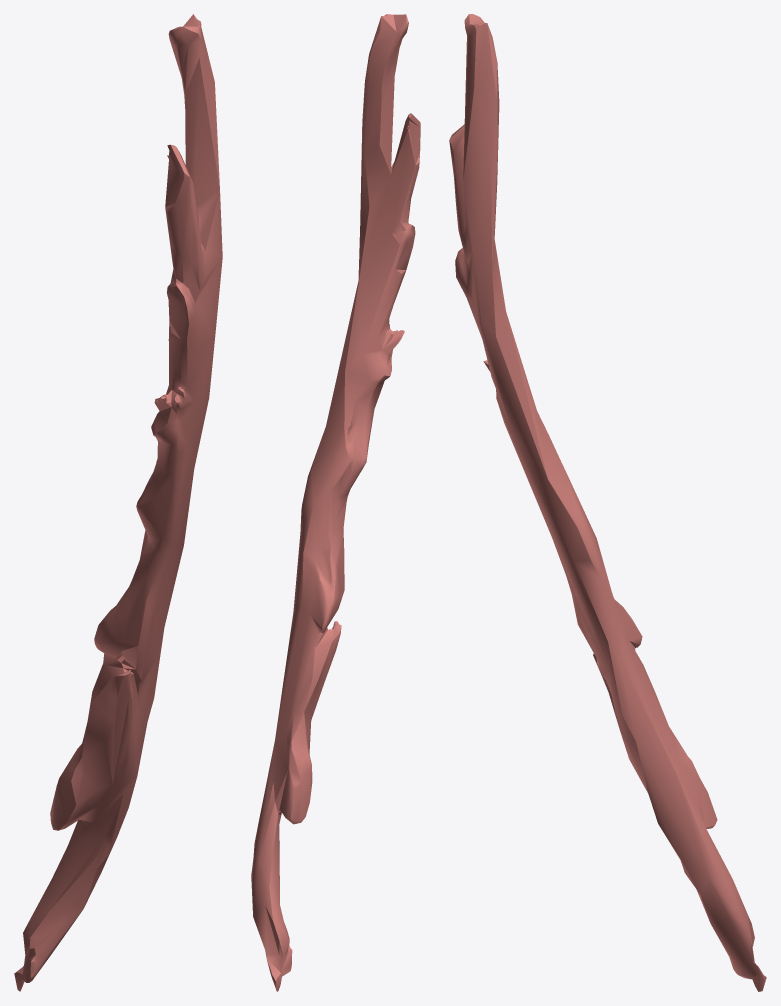
Rendered from fma77179_fj1543m.glb.
The picture shows the model from 3 angles, left to right: view 1: azimuth 30°, elevation 25°; view 2: azimuth 150°, elevation 25°; view 3: azimuth 270°, elevation 25°; orthographic projection. The views are drawn at different scales.
Visible parts, largest first — view 1: FMA77179_FJ1543M; view 2: FMA77179_FJ1543M; view 3: FMA77179_FJ1543M.
Part boxes in pixels (<box>): FMA77179_FJ1543M: <box>14,14,222,991</box>; FMA77179_FJ1543M: <box>251,14,420,991</box>; FMA77179_FJ1543M: <box>449,14,766,991</box>.
Size of the model in its own units: 0.00788 by 0.1062 by 0.0312.
